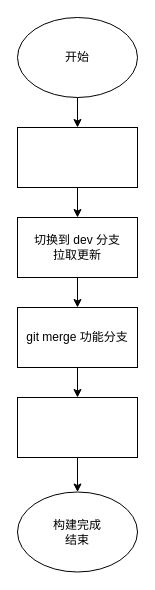
Image size: 155x590. Some labels were removed from this diagram. Here are the shapes that lost their labels. From the top down, the box of each, then its label:
(16, 126, 138, 188): 将该分支保存到仓库 并 push 到远端
(16, 396, 138, 458): git push git触发webhook Jenkins接收webhook触发构建
